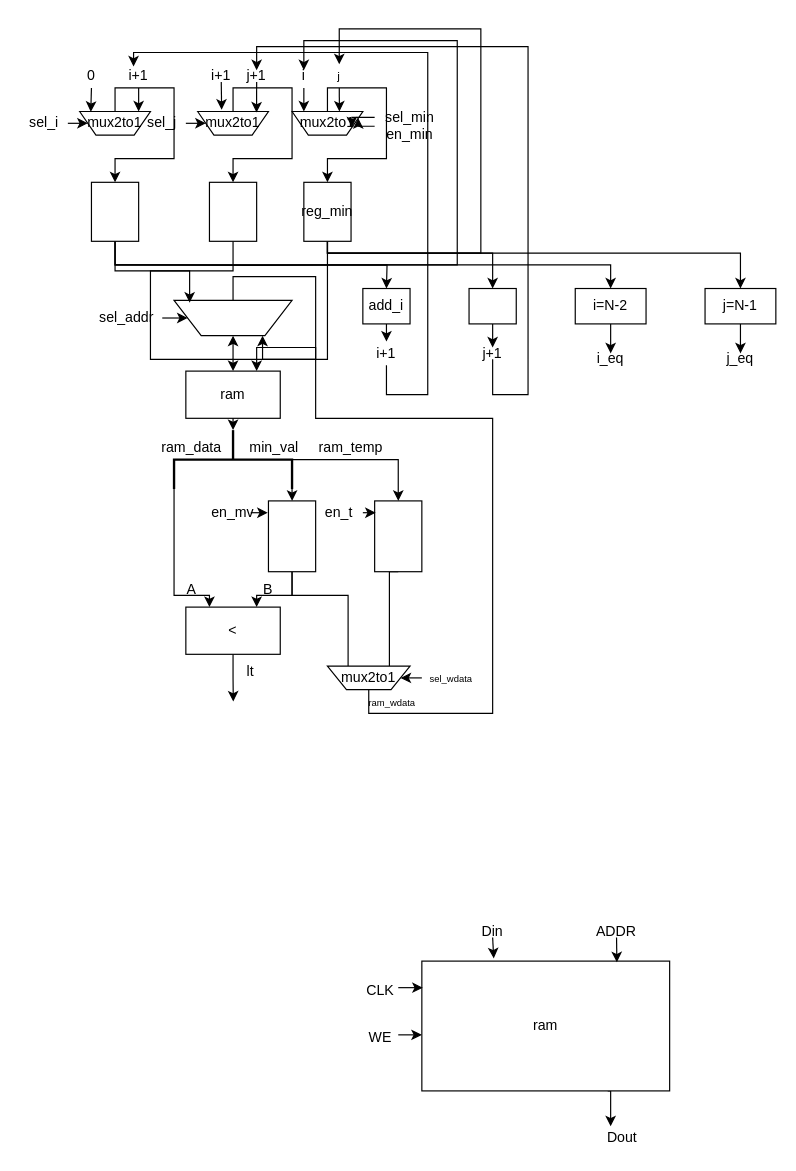
Some shapes in this 796 by 1171 pixel diagram are drawn without their labels. Each missing label, with the centre of its shape:
"add_j" goes at pixel 492 305.
"mux3to1" goes at pixel 232 317.
"reg_i" goes at pixel 114 211.
"reg_j" goes at pixel 232 211.
"reg_mv" goes at pixel 291 536.
"reg_t" goes at pixel 397 536.
